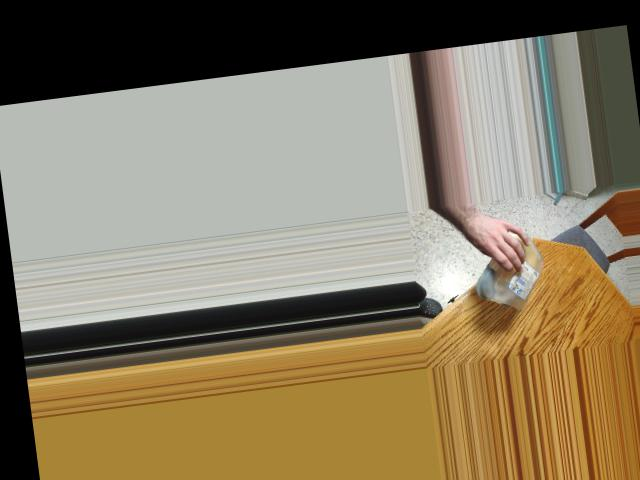cheese: (478, 223, 554, 315)
